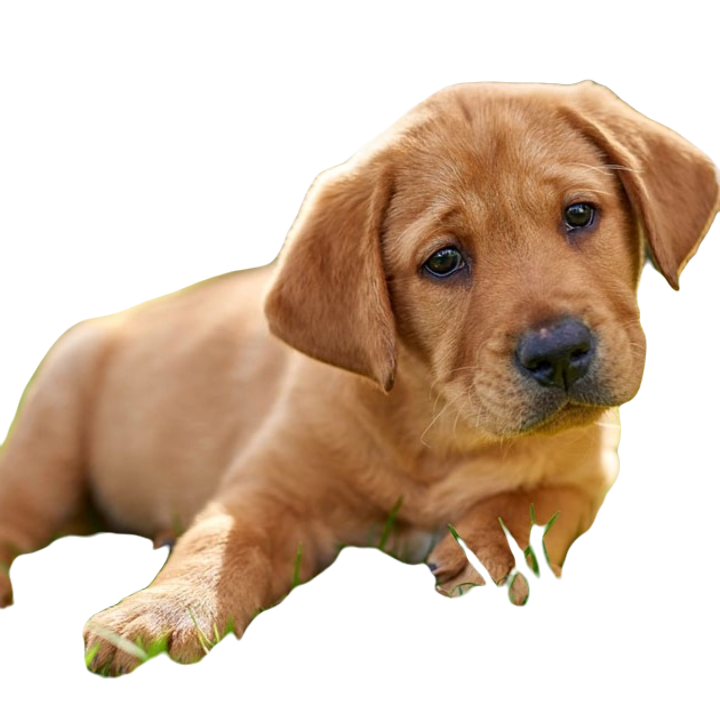Dog: (0, 74, 720, 675)
